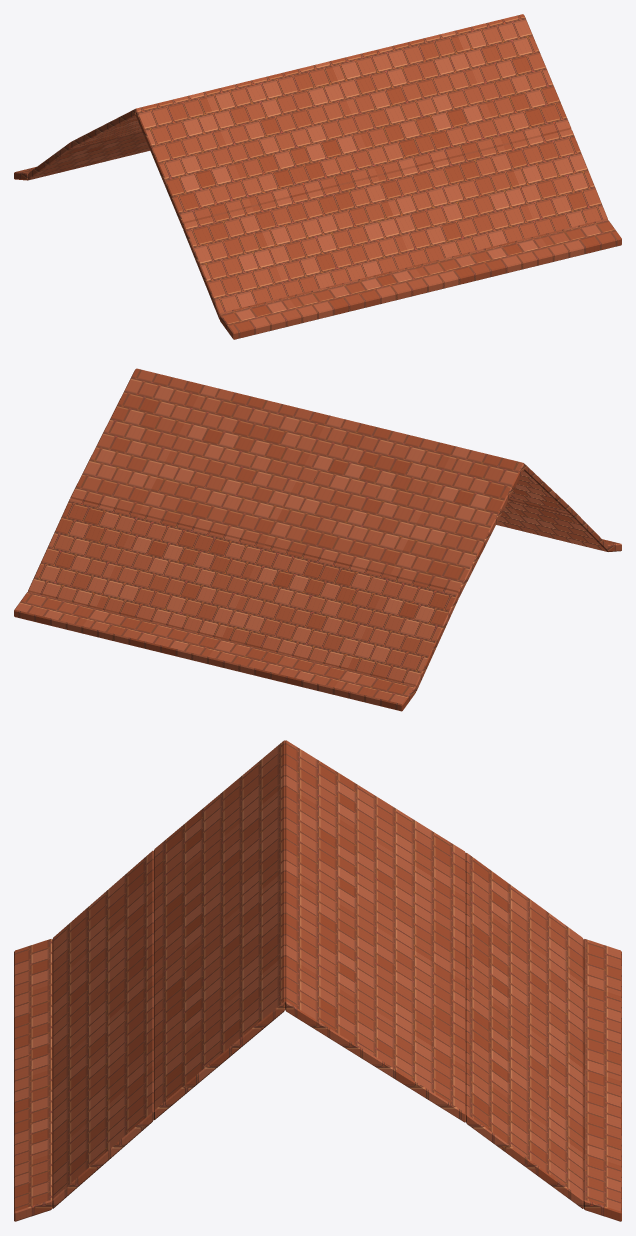
The model's file is SM_HH_V2_Roof_Main.fbx.
3 renders of one model, top to bottom at view 1: azimuth 30°, elevation 25°; view 2: azimuth 150°, elevation 25°; view 3: azimuth 270°, elevation 25°, orthographic. The views are drawn at different scales.
Visible parts, largest first — view 1: HH_V2_Roof_Main; view 2: HH_V2_Roof_Main; view 3: HH_V2_Roof_Main.
Part boxes in pixels (x1,y1,x2,y2): HH_V2_Roof_Main: [14, 14, 621, 339]; HH_V2_Roof_Main: [14, 368, 621, 711]; HH_V2_Roof_Main: [14, 740, 621, 1221].
Size of the model in its own units: 9.7 by 9.9 by 3.88.
